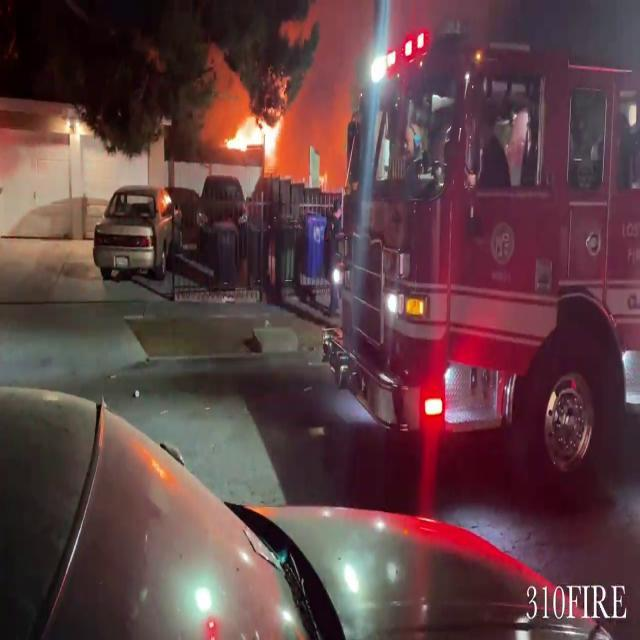Fire: (222, 108, 287, 168)
Smoke: (0, 0, 377, 164)
